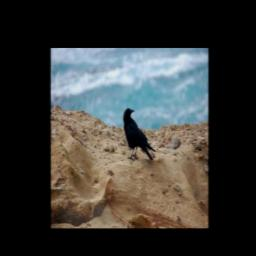Crow: (123, 105, 155, 162)
